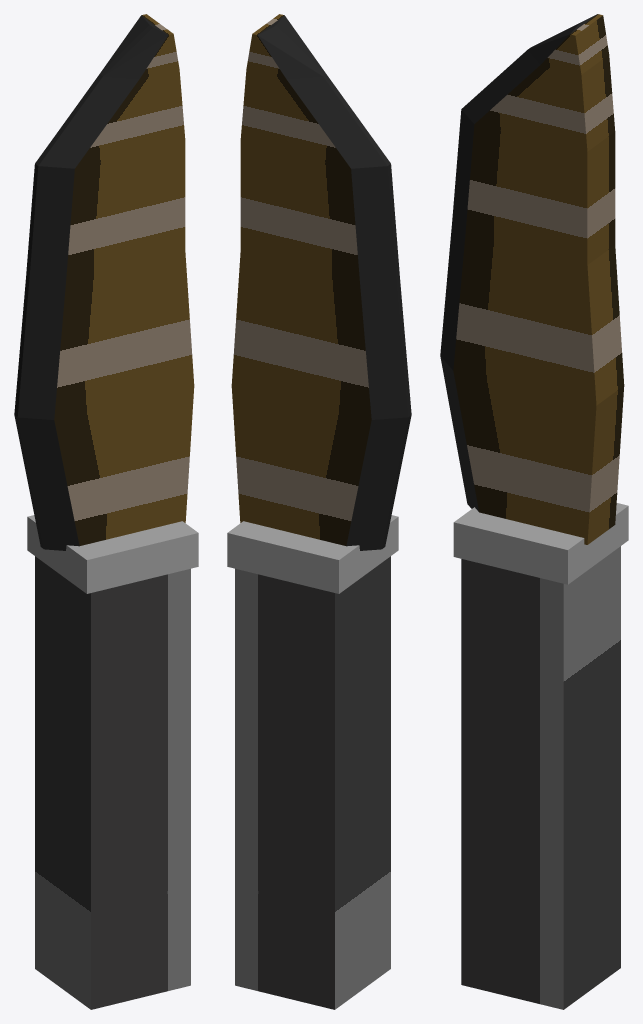
Rendered from flint.obj.
3 views of the same model, side by side, from view 1: azimuth 30°, elevation 25°; view 2: azimuth 150°, elevation 25°; view 3: azimuth 330°, elevation 25° (orthographic). The views are drawn at different scales.
Visible parts, largest first — view 1: blade, grip, bolster; view 2: blade, grip, bolster; view 3: blade, grip, bolster.
Part boxes in pixels (box(x1,y1,x2,y2)): blade: box(14, 14, 194, 550); grip: box(35, 556, 190, 1009); bolster: box(27, 515, 198, 593); blade: box(231, 14, 411, 550); grip: box(235, 556, 390, 1009); bolster: box(227, 515, 398, 593); blade: box(440, 14, 624, 544); grip: box(461, 546, 620, 1009); bolster: box(453, 503, 628, 584).
Bounding box in the file's own units: 0.175 × 0.9563 × 0.1094.
